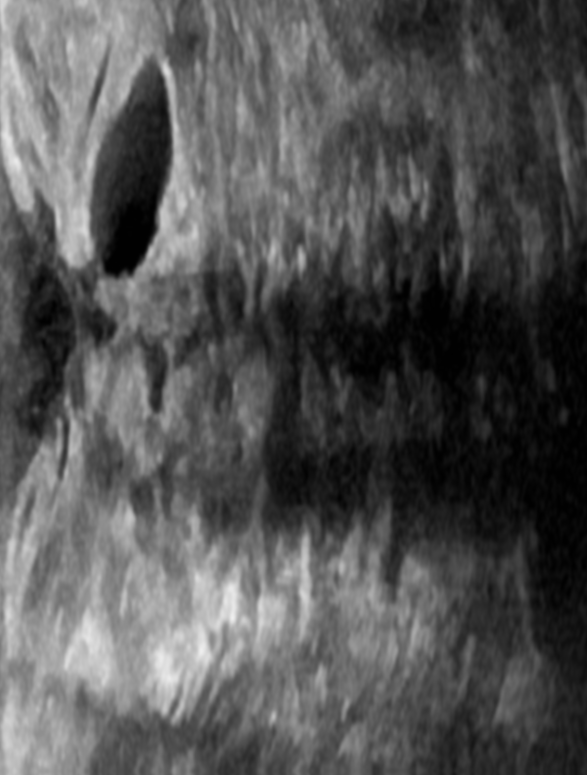Benign: (77, 70, 178, 279)
